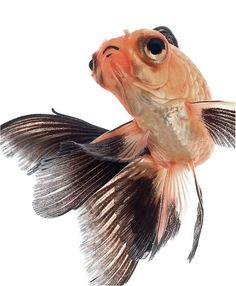goldfish: (45, 13, 236, 211)
